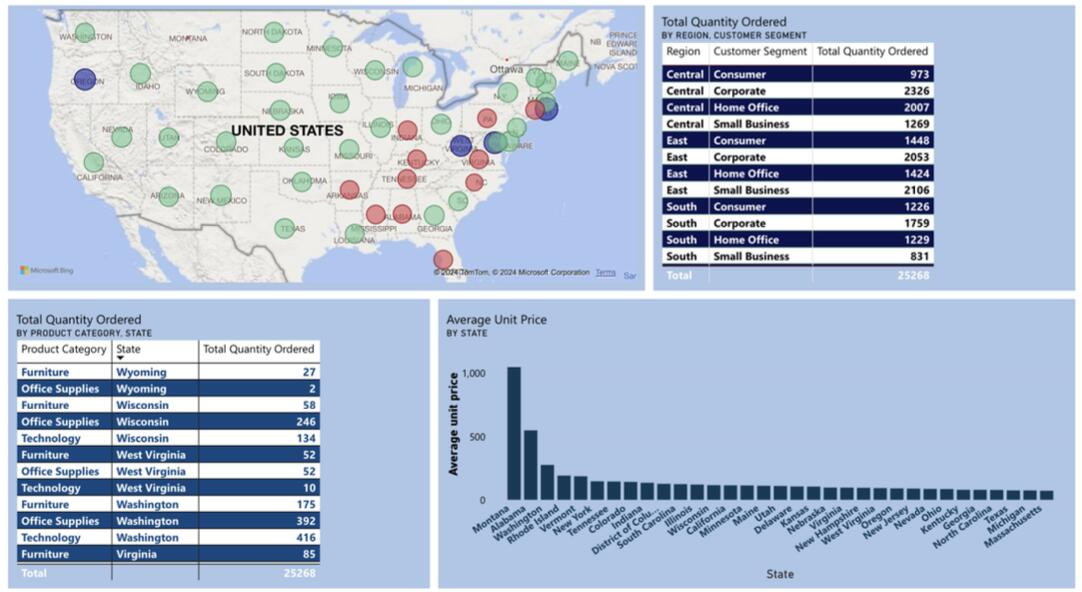

Layout of this report page (visuals, bound fields, positions):
{"tool":"powerbi","page":{"name":"Page 4","canvas":[1300,945],"ordinal":2},"visuals":[{"type":"map","title":"Average Profit of States","fields":{"Category":["Orders.State or Province"],"Size":["Avg(Orders.Profit)"]},"box":[10.5,83.8,835.9,429.7],"z":0},{"type":"shape","box":[0,0,1300,82.8],"z":1000},{"type":"tableEx","fields":{"Values":["Orders.Product Category","Orders.State or Province","Orders.Quantity Ordered"]},"box":[10.4,539.9,429.2,375.5],"z":2000},{"type":"lineStackedColumnComboChart","fields":{"Y":["Avg(Orders.Unit Price)"],"Category":["Orders.State or Province"]},"box":[466,539.9,834,387.3],"z":3000},{"type":"tableEx","fields":{"Values":["Orders.Region","Orders.Customer Segment","Sum(Orders.Quantity Ordered)"]},"box":[870.5,83.1,351.3,389.4],"z":4000}]}

Visuals, with their boxes on the page's 1300x945 design canvas (x1, y1, x2, y2). These are canvas units, not pixel positions in the 1082x592 screenshot, which may show the page scaled, cropped or inside an application window:
"Average Profit of States" map: [left=10, top=84, right=846, bottom=514]
shape: [left=0, top=0, right=1300, bottom=83]
tableEx - Orders.Product Category x Orders.State or Province: [left=10, top=540, right=440, bottom=915]
lineStackedColumnComboChart - Avg(Orders.Unit Price) x Orders.State or Province: [left=466, top=540, right=1300, bottom=927]
tableEx - Orders.Region x Orders.Customer Segment: [left=870, top=83, right=1222, bottom=472]
